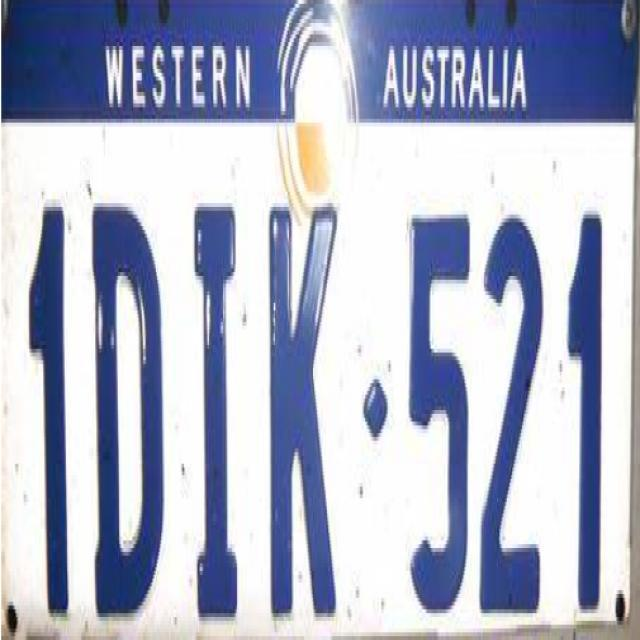1: (554, 184, 614, 618), (18, 182, 76, 626)
5: (398, 188, 474, 619)
D: (86, 196, 172, 628)
I: (186, 186, 249, 627)
K: (259, 174, 344, 628)
